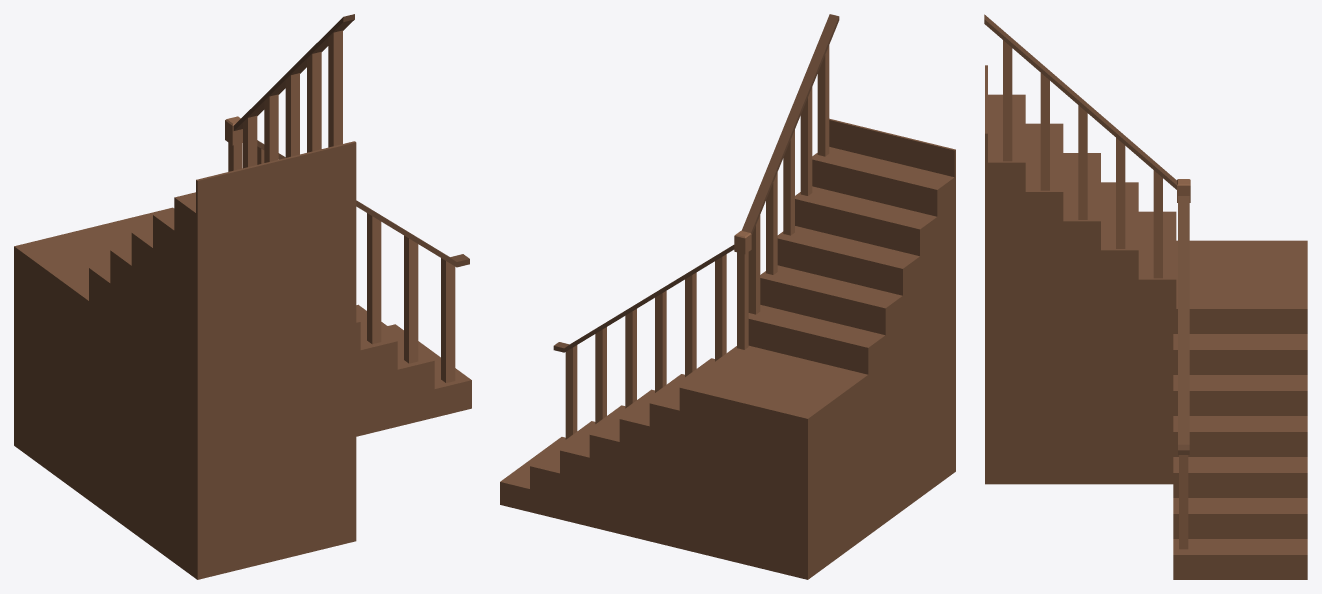
Rendered from Stairs2_C1.fbx.
3 renders of one model, left to right at view 1: azimuth 30°, elevation 25°; view 2: azimuth 150°, elevation 25°; view 3: azimuth 270°, elevation 25°, orthographic. The views are drawn at different scales.
Parts seen in each view (by area): view 1: Stairs2_C1; view 2: Stairs2_C1; view 3: Stairs2_C1.
Part boxes in pixels (left/top/right/bottom): Stairs2_C1: left=14, top=14, right=471, bottom=579; Stairs2_C1: left=500, top=14, right=955, bottom=579; Stairs2_C1: left=984, top=14, right=1307, bottom=579.
Bounding box in the file's own units: 301 × 397 × 251.
